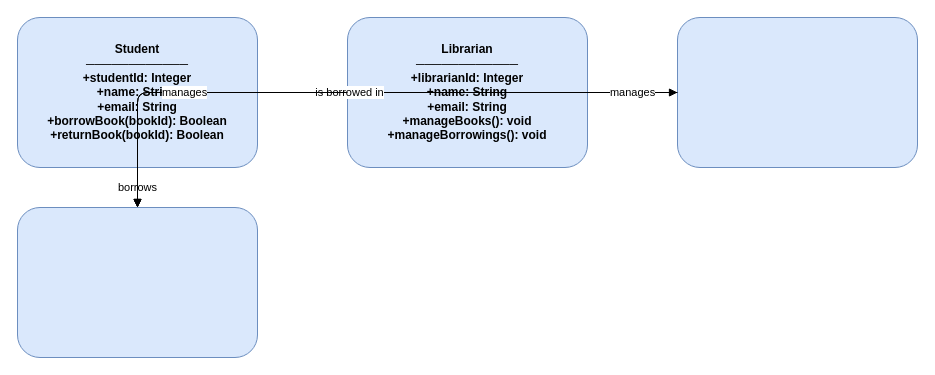
The diagram is 935 pixels wide and 375 high, and some of its shapes have lost their labels. The centre of each missing label's shape, as x and y in pixels:
"Book ──────────── +bookId: Integer +title: String +author: String +isbn: String" goes at (x=797, y=92).
"Borrowing ──────────── +borrowingId: Integer +borrowDate: Date +returnDate: Date" goes at (x=137, y=282).
